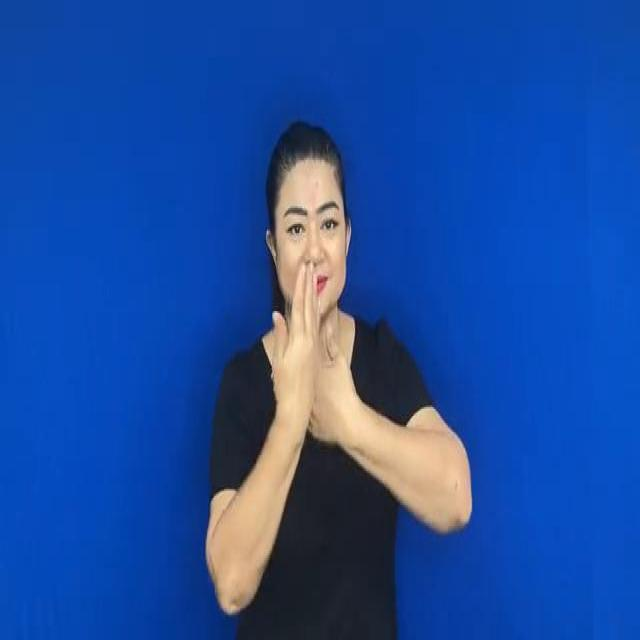bread: (264, 264, 358, 467)
